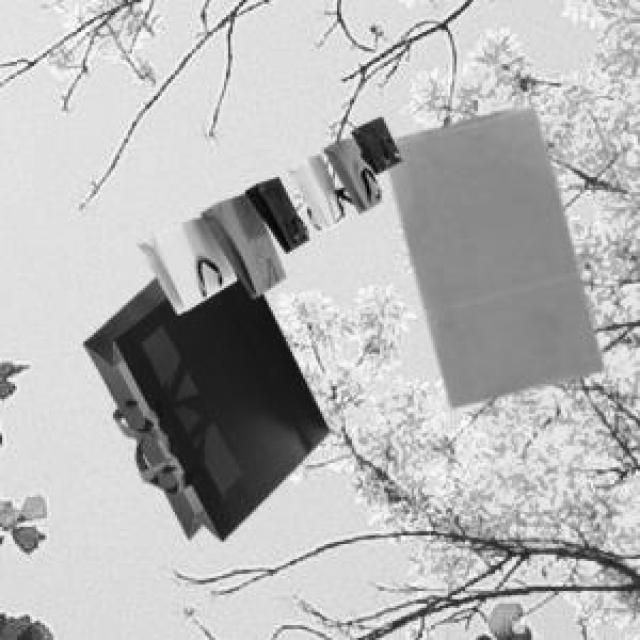paper: (79, 267, 324, 538), (384, 105, 600, 403), (134, 113, 397, 309)
